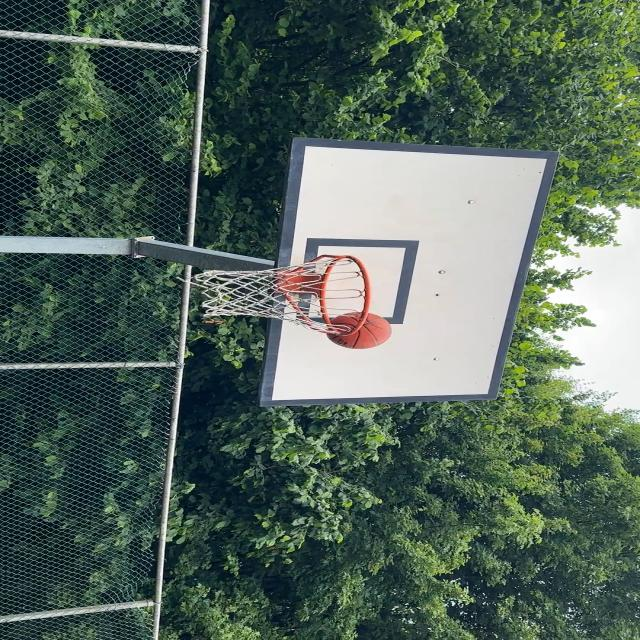rebound_hit: (325, 307, 394, 348)
